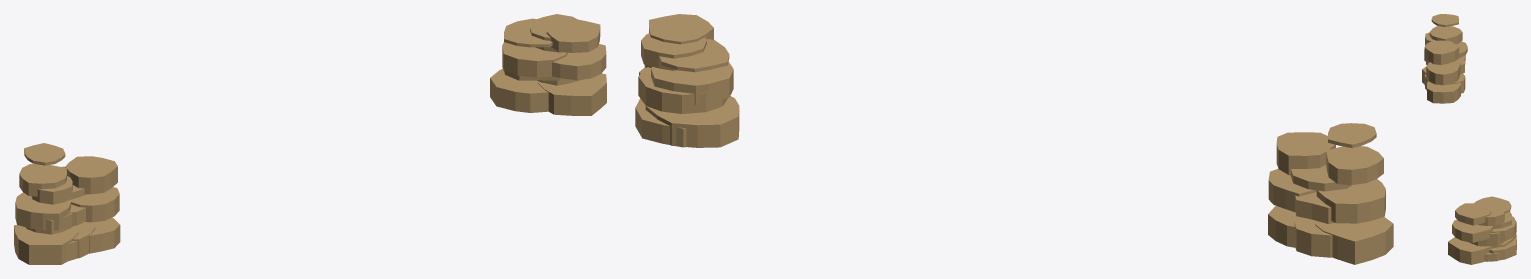
The model's file is MesasFar_Rock.fbx.
The picture shows the model from 3 angles, left to right: view 1: azimuth 30°, elevation 25°; view 2: azimuth 150°, elevation 25°; view 3: azimuth 270°, elevation 25°; orthographic projection. The views are drawn at different scales.
Parts seen in each view (by area): view 1: MesaFar0_0.001; view 2: MesaFar0_0.001; view 3: MesaFar0_0.001.
Boxes of the visible parts, x1,y1,x2,y2 form: MesaFar0_0.001: (14, 14, 606, 264); MesaFar0_0.001: (635, 14, 1393, 264); MesaFar0_0.001: (1422, 14, 1516, 264).
Size of the model in its own units: 56870 by 8758 by 11905.
